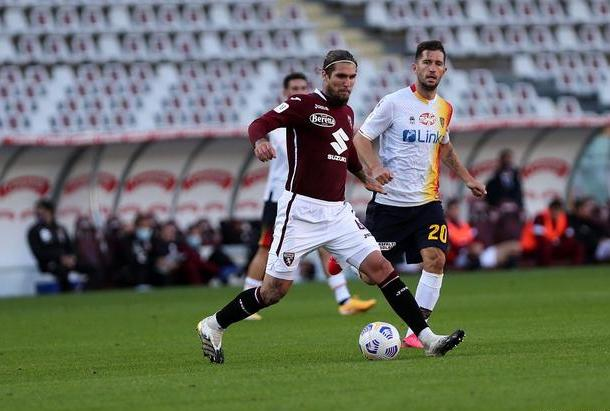ball: (359, 321, 401, 361)
